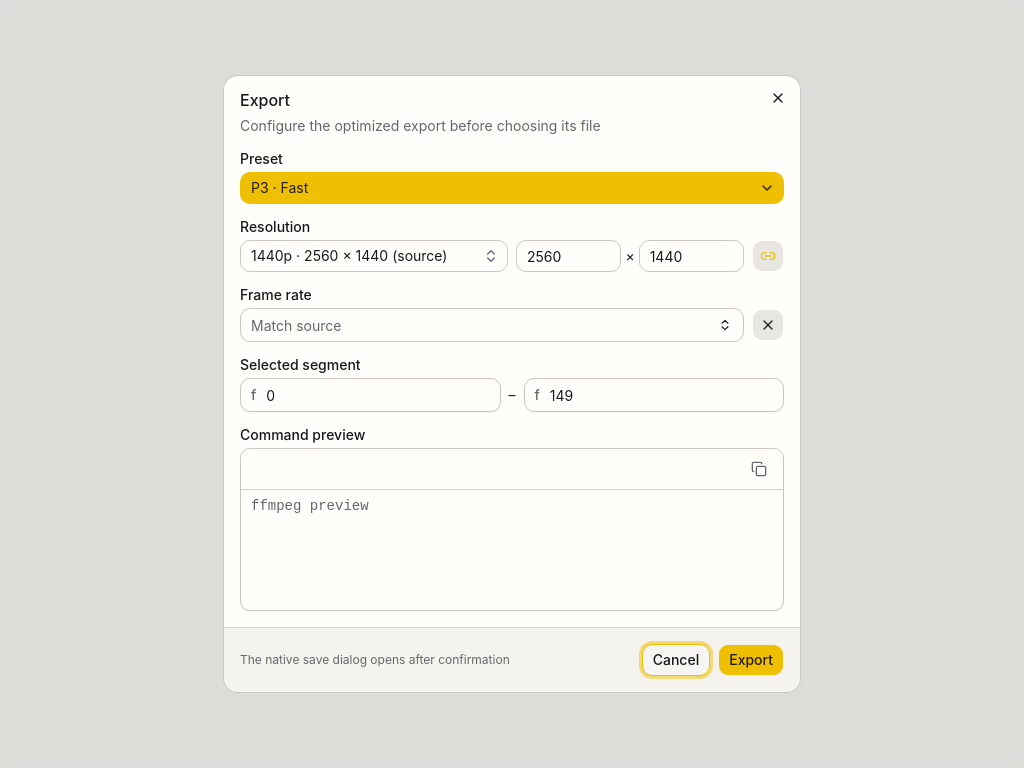
Test: ExportDialog › uses crop dimensions and aspect ratio for optimized resolution controls
The width and height of the screenshot is (1024, 768).
Expected: the number field named "Height" holds "1440", [639, 240, 744, 272]
Replace the text in the number field named "Width" with "1920" at (569, 256), box [516, 240, 621, 272]
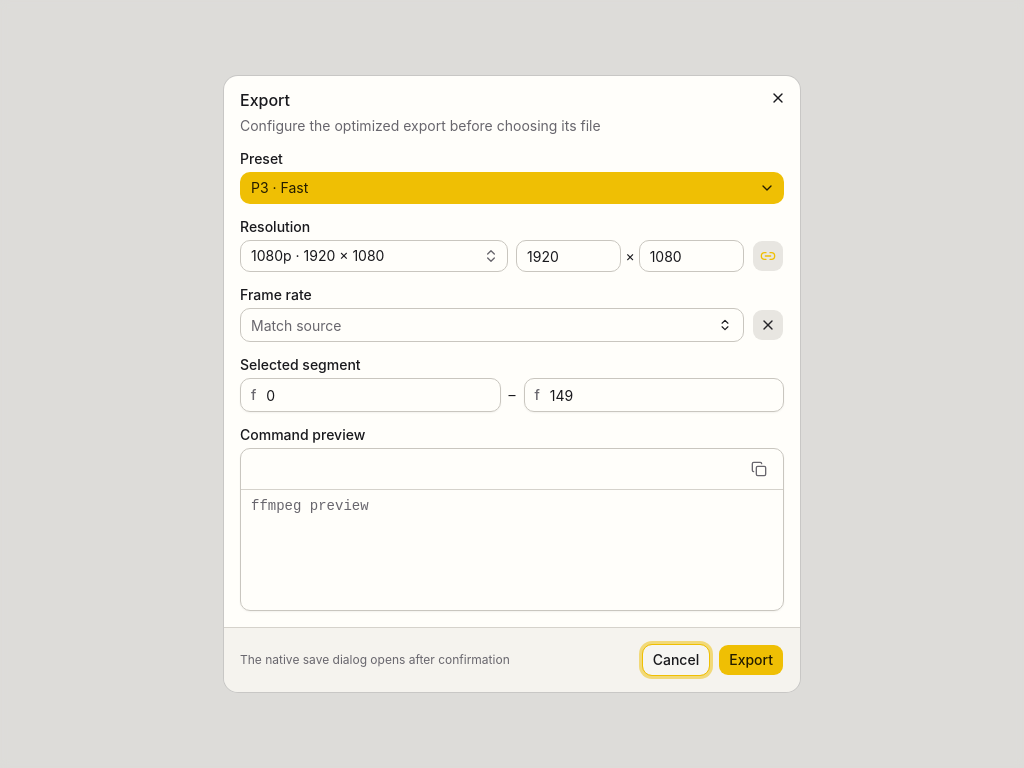
Now the number field named "Height" holds "1080", box [639, 240, 744, 272]
Click the dropdown named "Resolution" at (374, 256), box [240, 240, 508, 272]
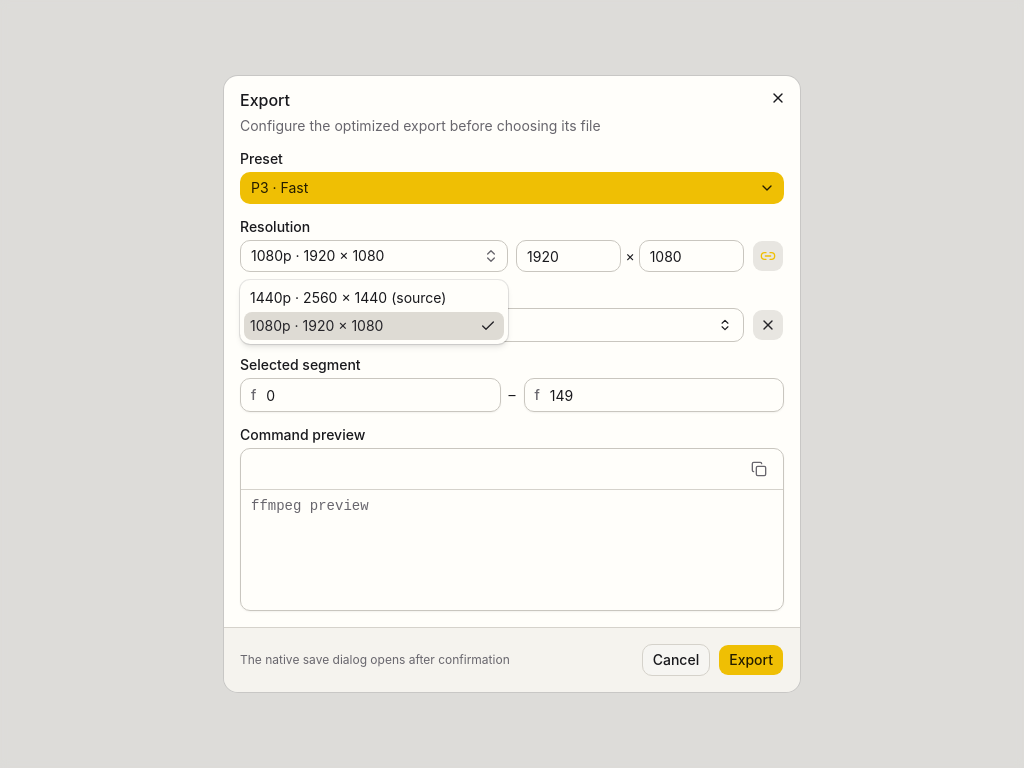
Now the option "1440p · 2560 × 1440 (source)" is shown, box [250, 289, 446, 306]
Now the option "1080p · 1920 × 1080" is shown, box [244, 312, 504, 340]
